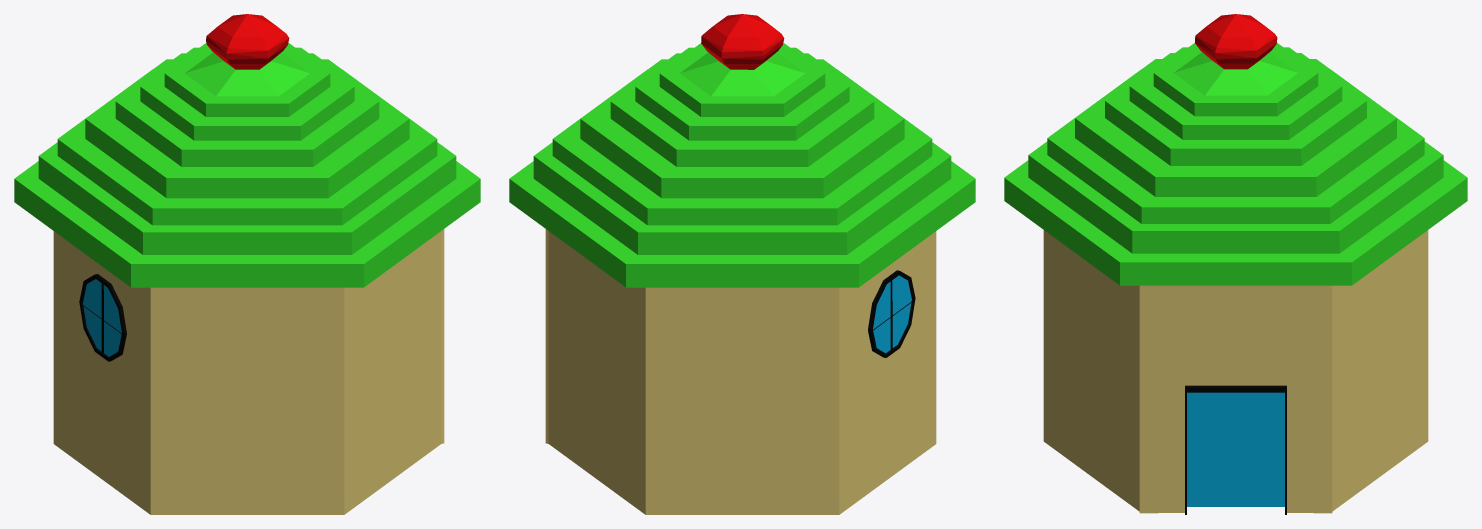
File: FishHut.fbx
3 renders of one model, left to right at view 1: azimuth 30°, elevation 25°; view 2: azimuth 150°, elevation 25°; view 3: azimuth 270°, elevation 25°, orthographic.
Parts seen in each view (by area): view 1: Cylinder; view 2: Cylinder; view 3: Cylinder.
Part boxes in pixels (<box>): Cylinder: <box>14,14,480,514</box>; Cylinder: <box>509,14,975,514</box>; Cylinder: <box>1004,14,1467,514</box>.
Bounding box in the file's own units: 209 × 245 × 241.
